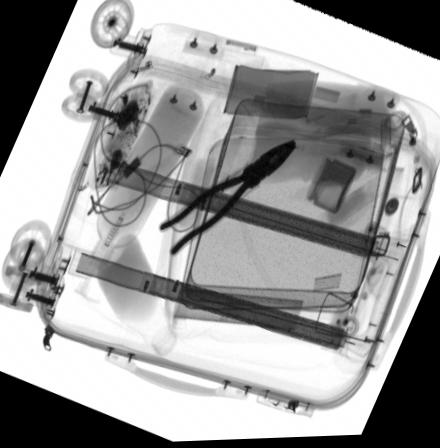Pliers: (159, 141, 297, 260)
